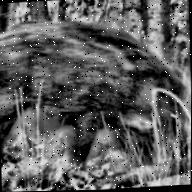boar: (14, 14, 173, 172)
